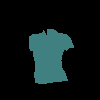polo: (28, 28, 74, 84)
